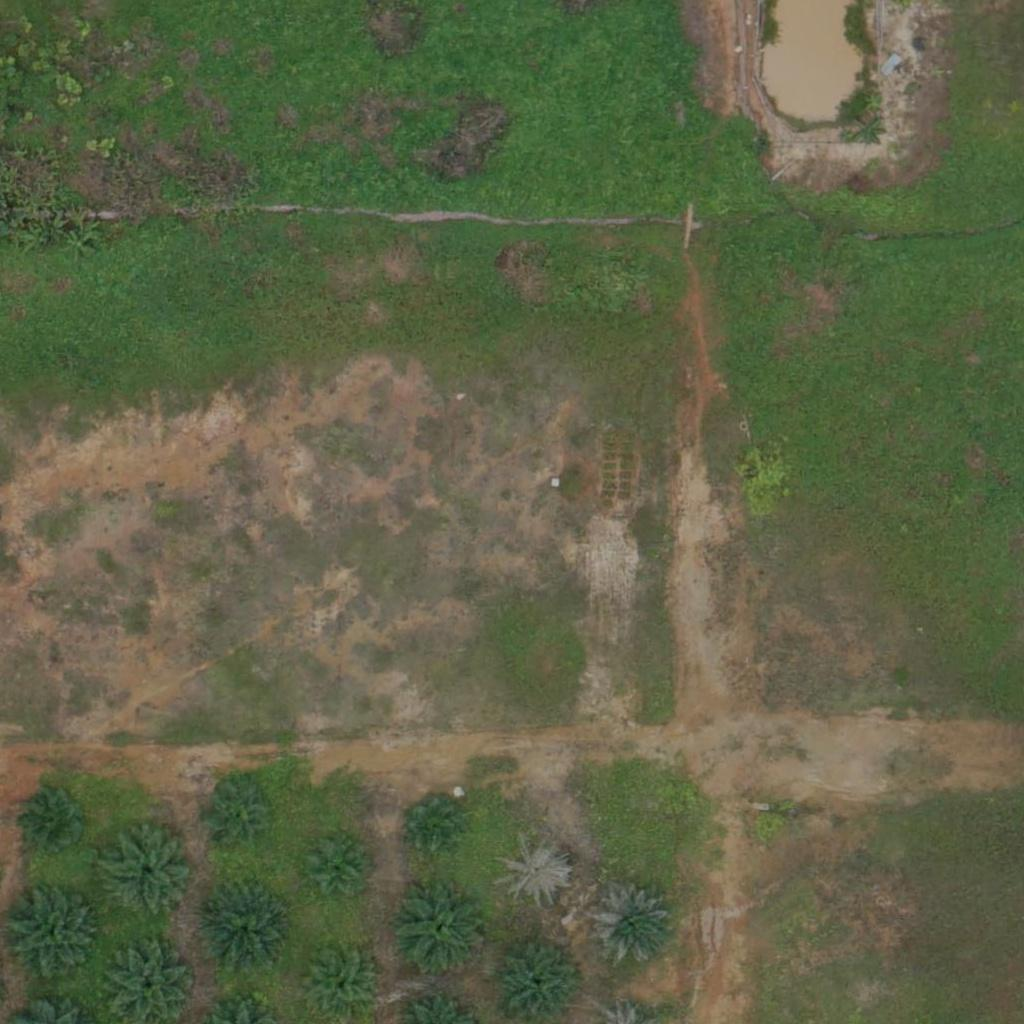Kelapa_Sawit: (2, 884, 102, 985), (99, 822, 199, 923), (391, 880, 491, 980), (201, 889, 289, 977), (586, 882, 674, 970), (497, 833, 572, 909), (208, 785, 271, 848), (305, 832, 368, 895), (25, 787, 88, 850), (401, 793, 463, 855)
